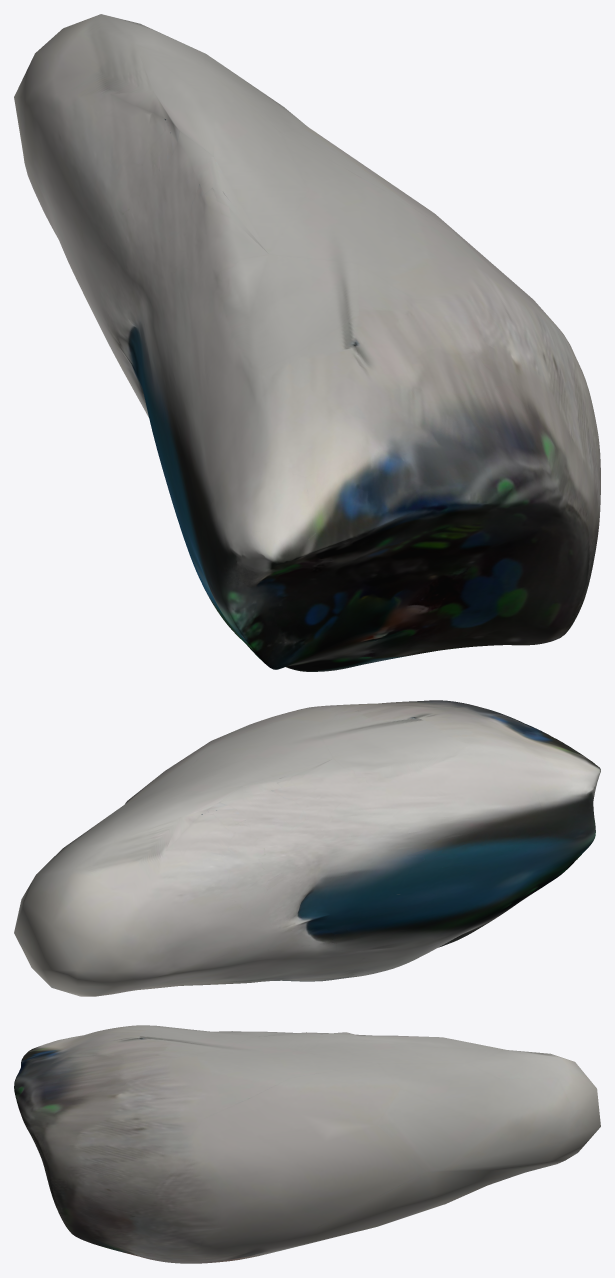
3 renders of one model, top to bottom at view 1: azimuth 30°, elevation 25°; view 2: azimuth 150°, elevation 25°; view 3: azimuth 270°, elevation 25°, orthographic. The views are drawn at different scales.
Size of the model in its own units: 0.1761 by 0.1306 by 0.3365.
1 material, 1 textured.
